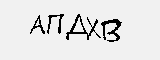А: (29, 14, 47, 35)
В: (101, 17, 124, 43)
Д: (66, 13, 89, 44)
П: (47, 12, 66, 37)
Х: (88, 13, 101, 41)
